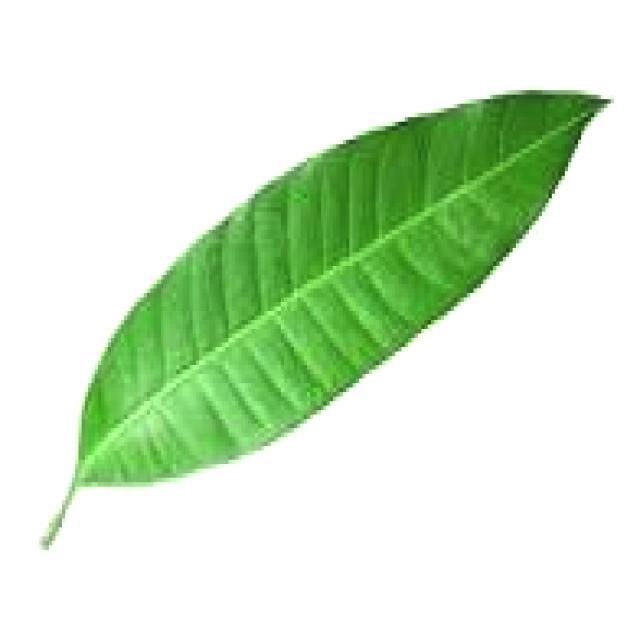leaf: (39, 87, 612, 550)
